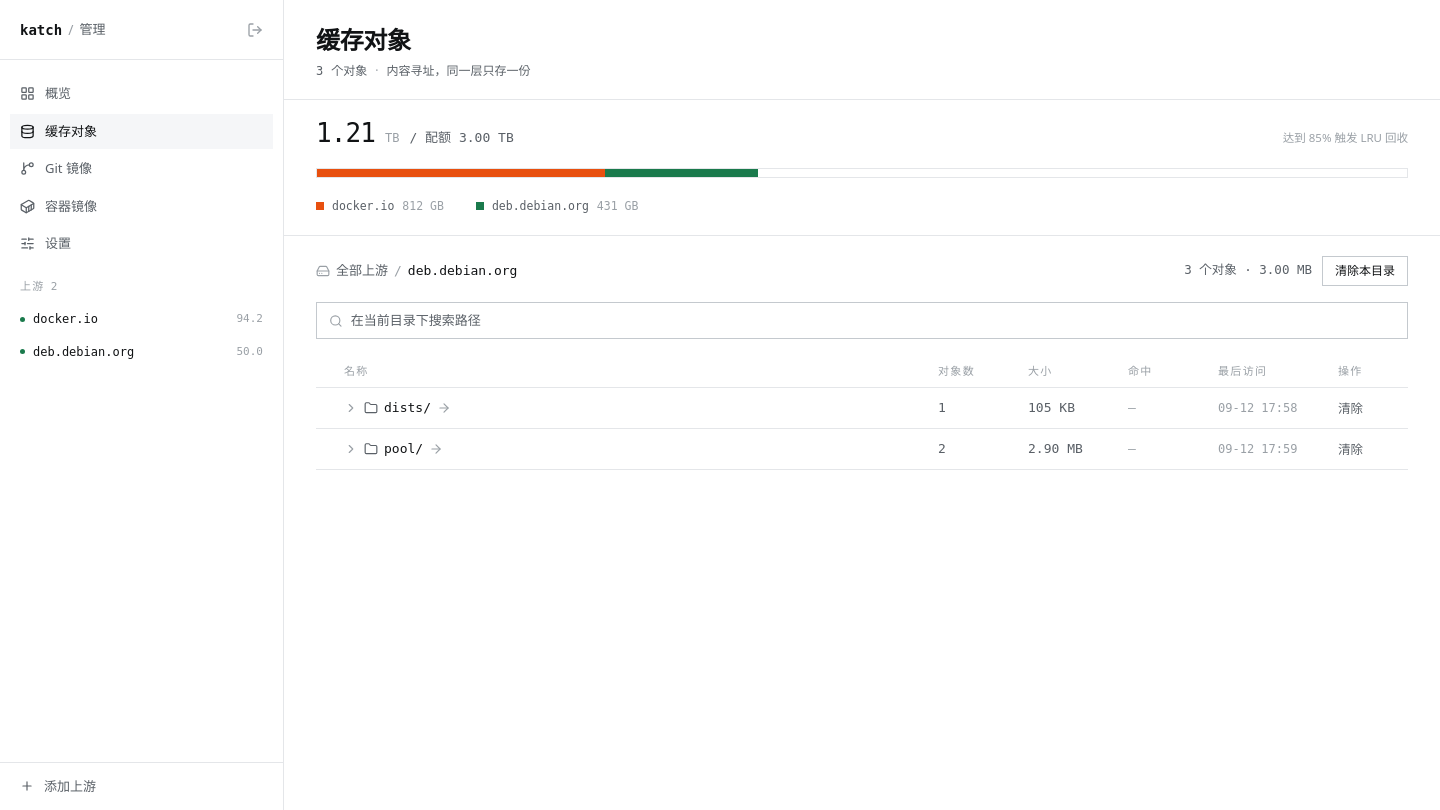
Test case: 后台 · 缓存对象 › 展开还在路上时进了别的目录，那次展开后回来也不把新目录的内容冲掉
Expected: the button "dists/" is shown, x1=384 y1=399 x2=431 y2=417
Click the button named "展开 dists". click: (351, 408)
box: x1=344 y1=401 x2=358 y2=415
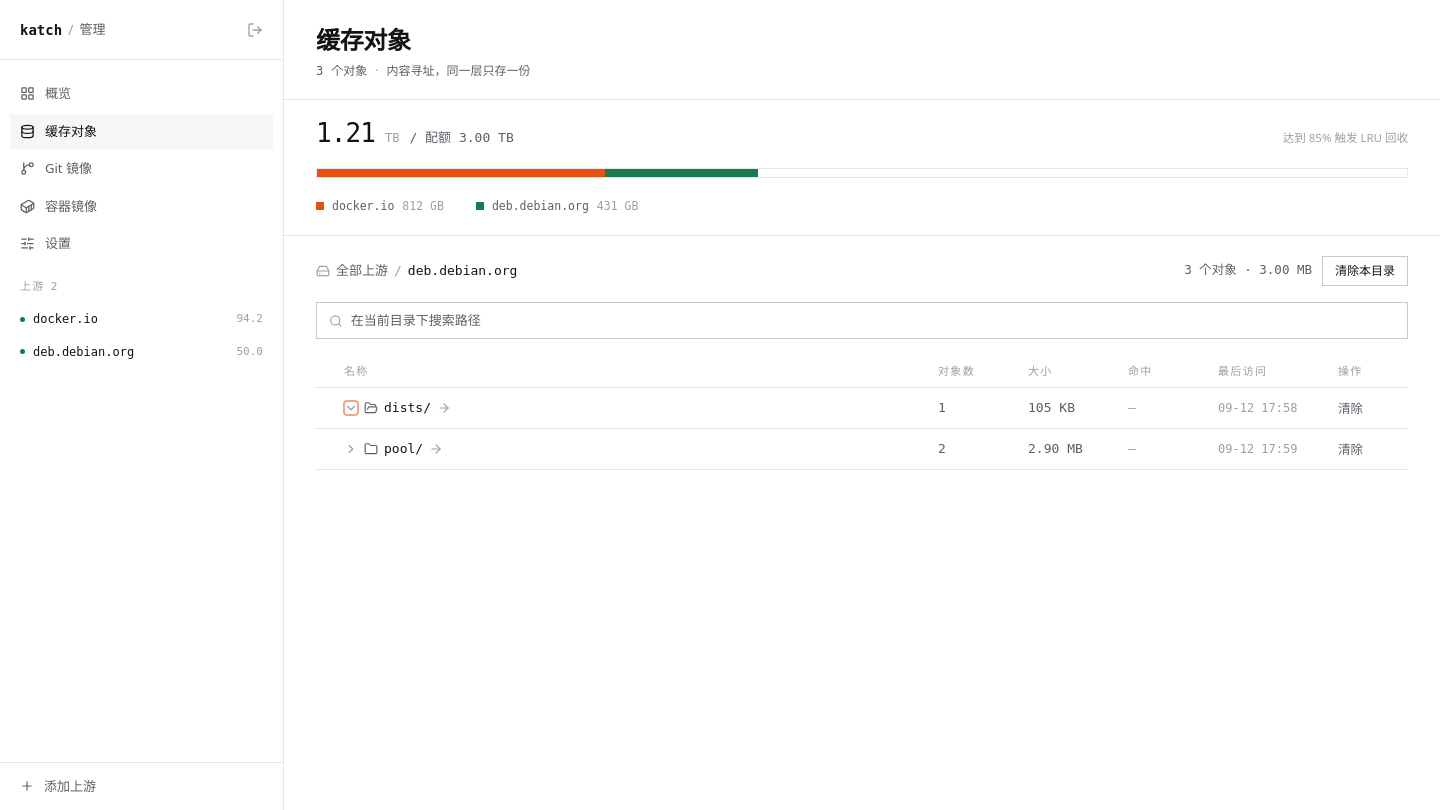
Click the button "pool/". click: (404, 449)
box: x1=384 y1=440 x2=423 y2=458
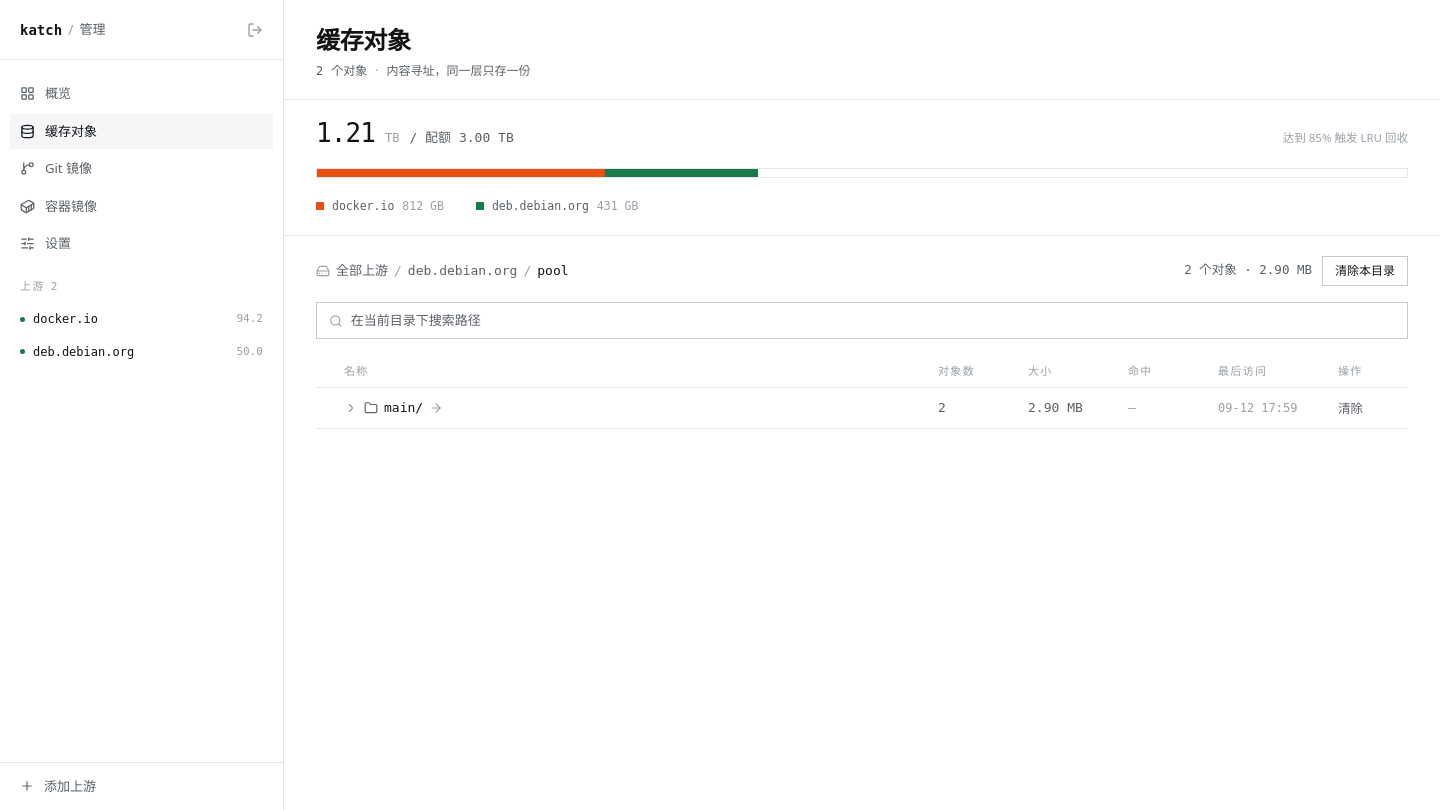
Now the button "main/" is shown, box x1=384 y1=399 x2=423 y2=417
